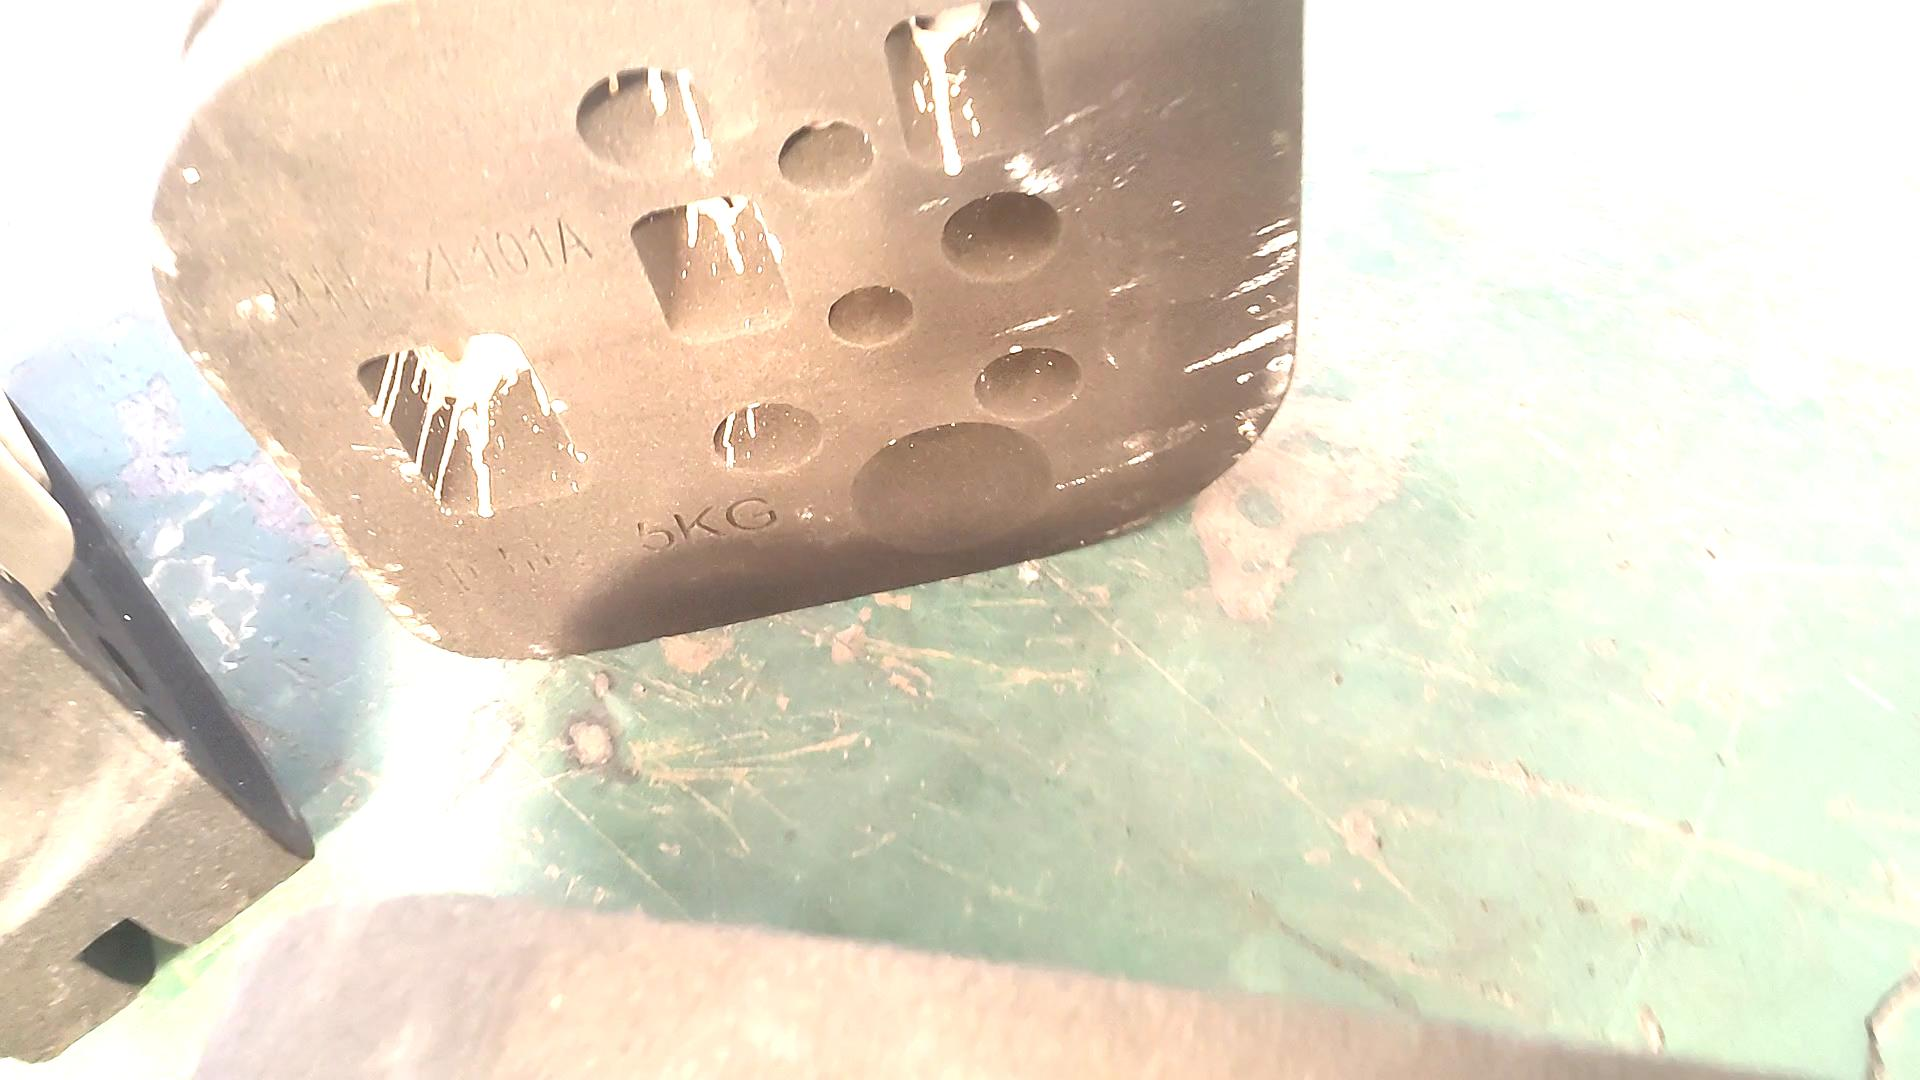pouring hole: (845, 419, 1058, 556)
